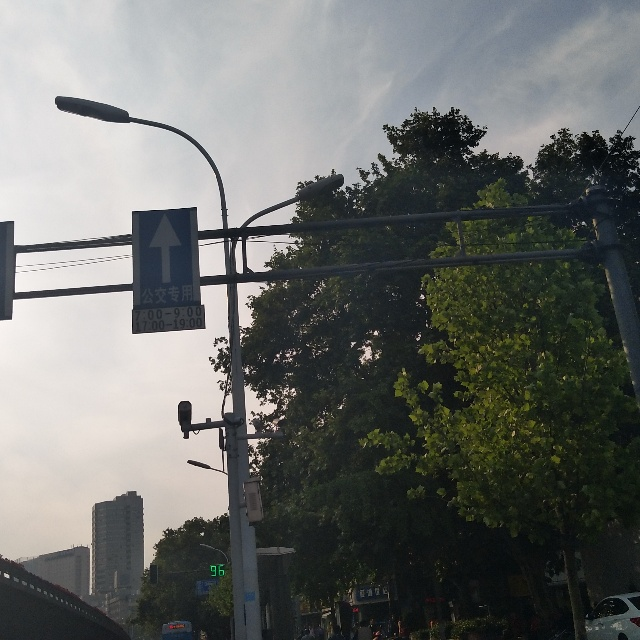straight: (132, 208, 201, 310)
